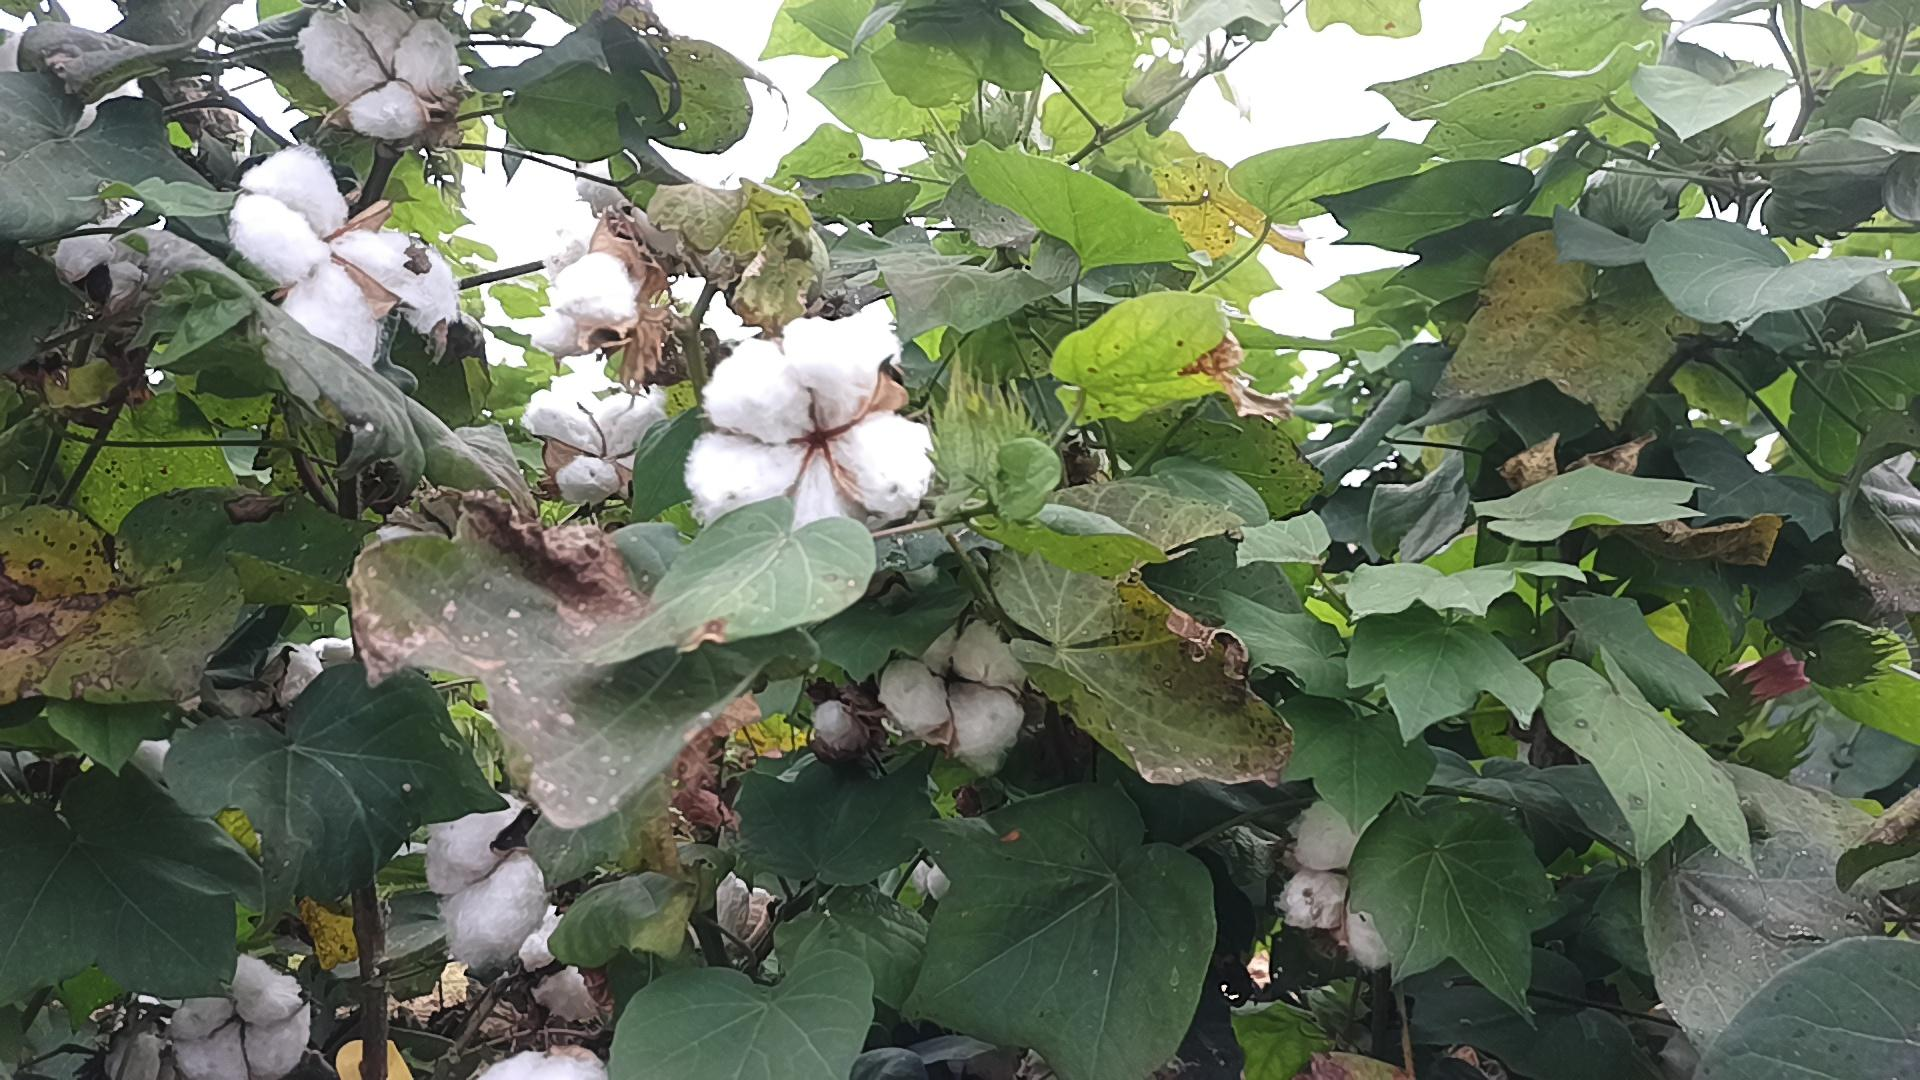cotton_ready: (688, 315, 932, 539), (231, 141, 452, 371), (299, 0, 463, 142), (878, 613, 1029, 761), (426, 795, 549, 969), (1279, 795, 1398, 971), (518, 376, 683, 501), (174, 956, 313, 1079), (531, 224, 638, 357)
